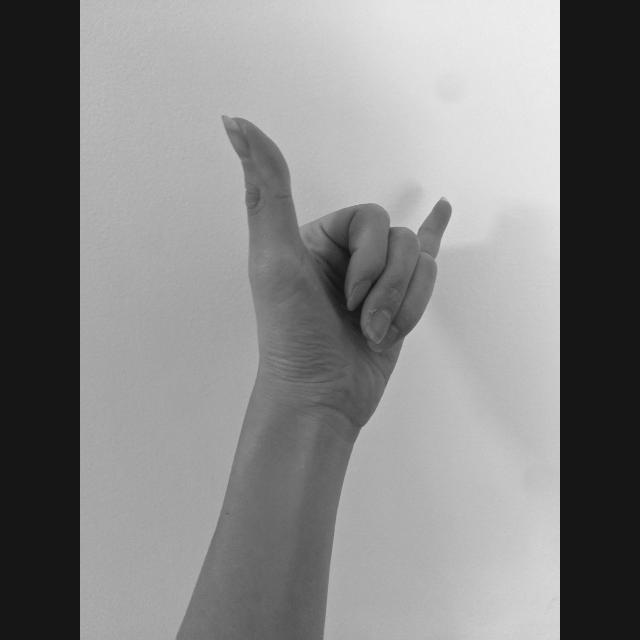Y: (218, 110, 456, 428)
